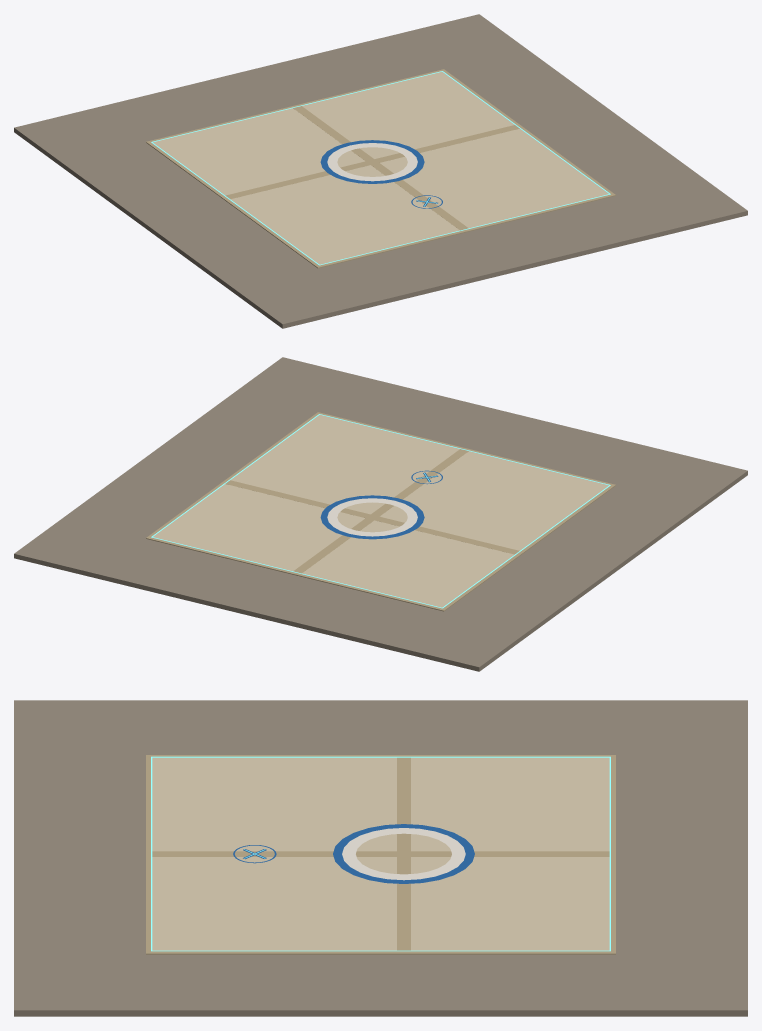
The picture shows the model from 3 angles, top to bottom: view 1: azimuth 30°, elevation 25°; view 2: azimuth 150°, elevation 25°; view 3: azimuth 270°, elevation 25°; orthographic projection. The views are drawn at different scales.
Parts seen in each view (by area): view 1: ground.lod1; view 2: ground.lod1; view 3: ground.lod1.
Boxes of the visible parts, x1=… form: ground.lod1: x1=14, y1=14, x2=747, y2=328; ground.lod1: x1=14, y1=357, x2=747, y2=671; ground.lod1: x1=14, y1=700, x2=747, y2=1016.
Bounding box in the file's own units: 64 × 0.7344 × 64.
